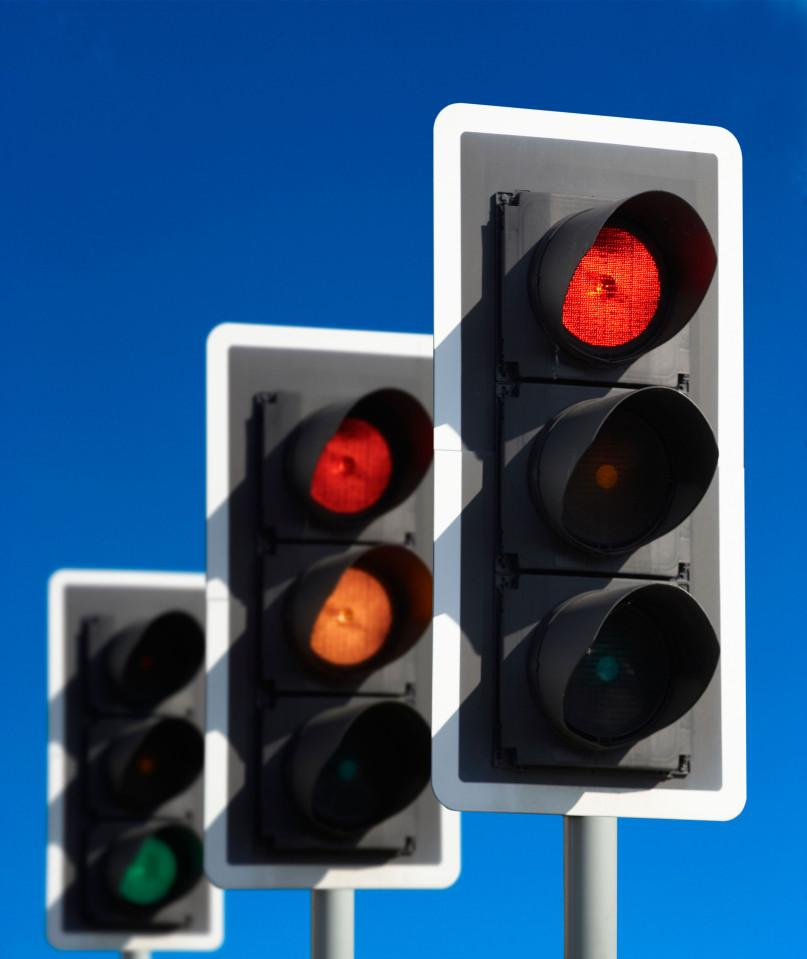red: (447, 100, 752, 800)
